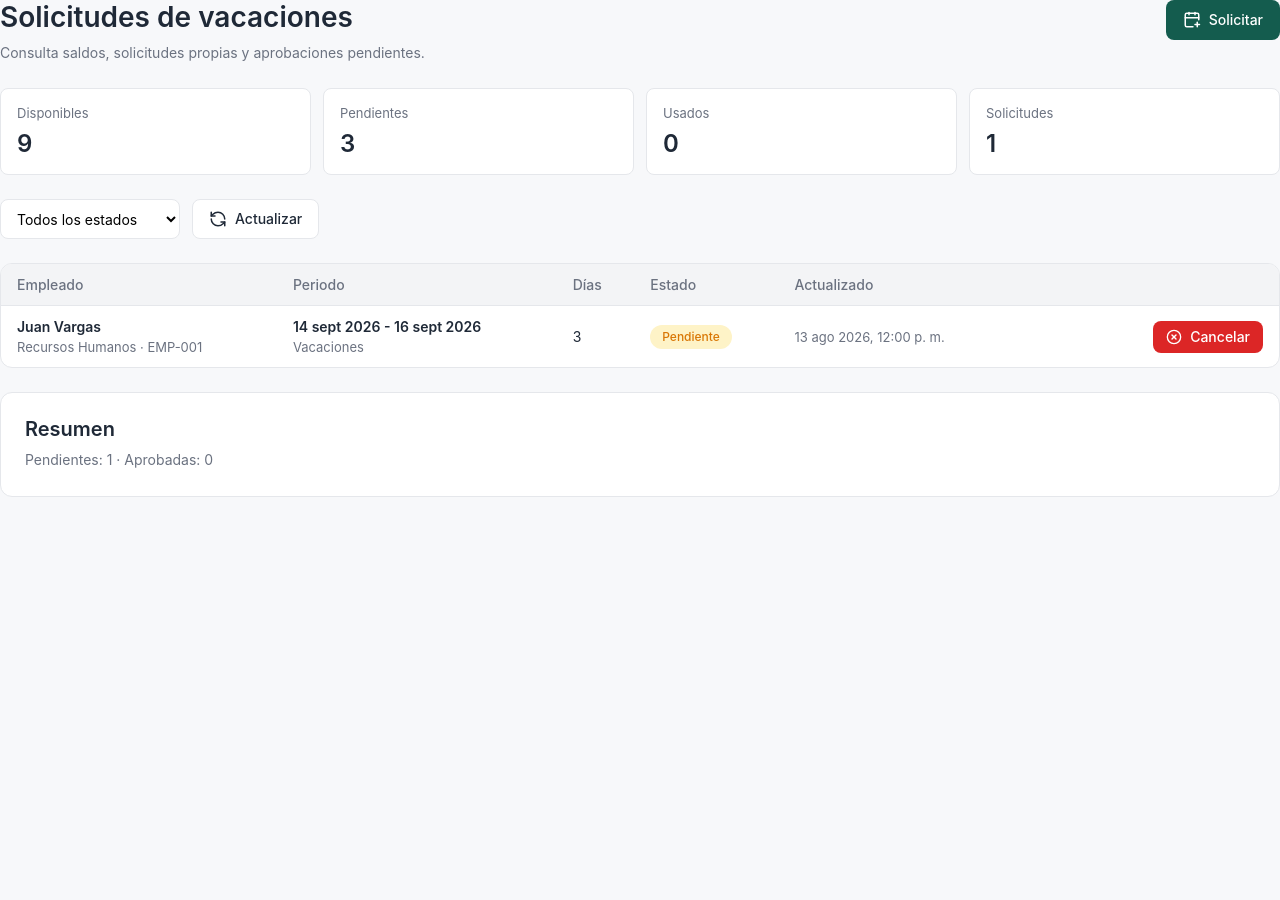
Scenario: LeaveRequestsPage › loads my leave requests and opens the create form
Expected: the text "Juan Vargas" is shown, [17,318,101,335]
Expected: the text "9" is shown, [17,129,32,158]
What coordinates should you click on to do the following:
click the button "Solicitar"
I would click on:
 (1223, 20)
Its box is [1166,0,1279,40].
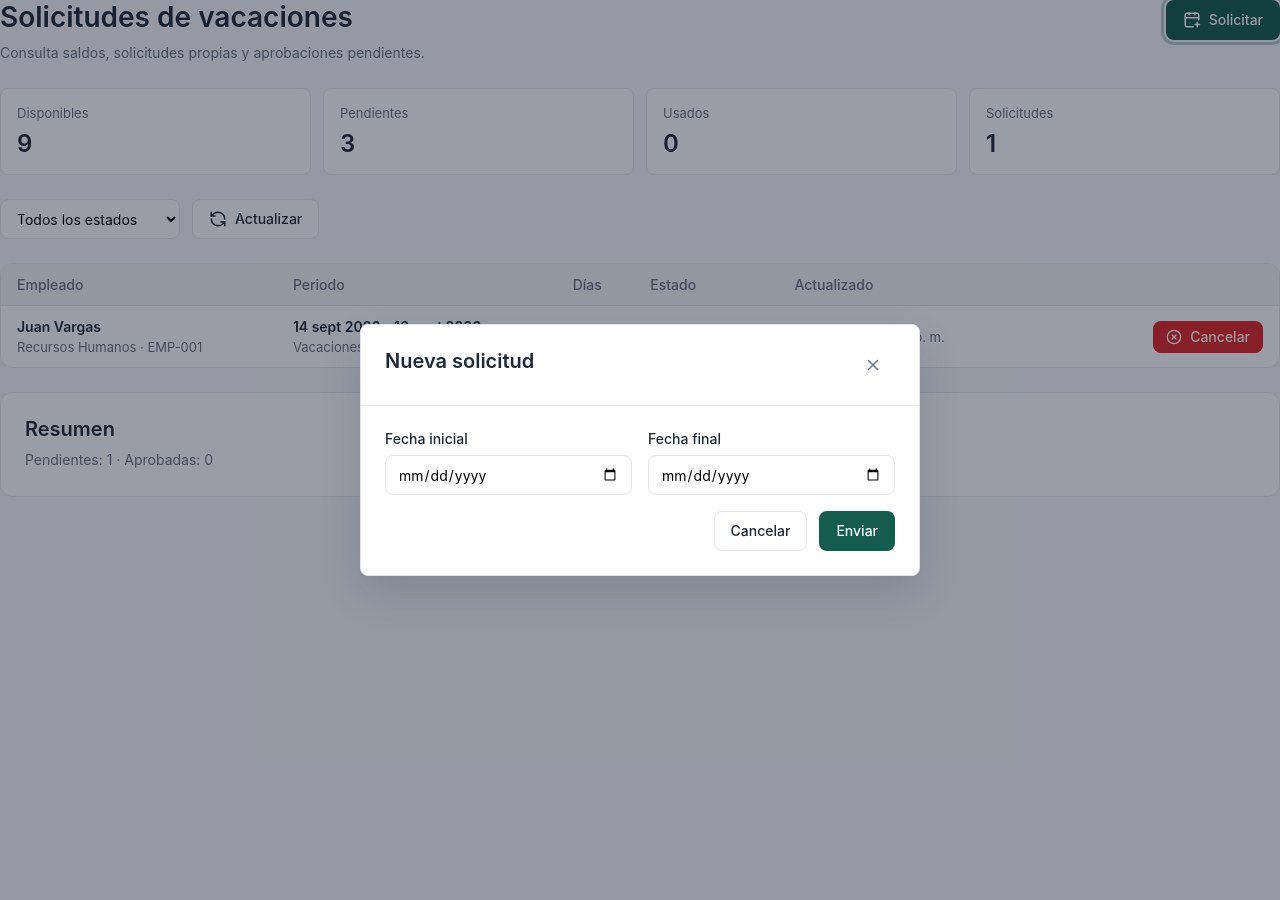
Expected: the dialog "Nueva solicitud Fecha inicial Fecha final Cancelar Enviar" is shown, [360,324,920,576]
